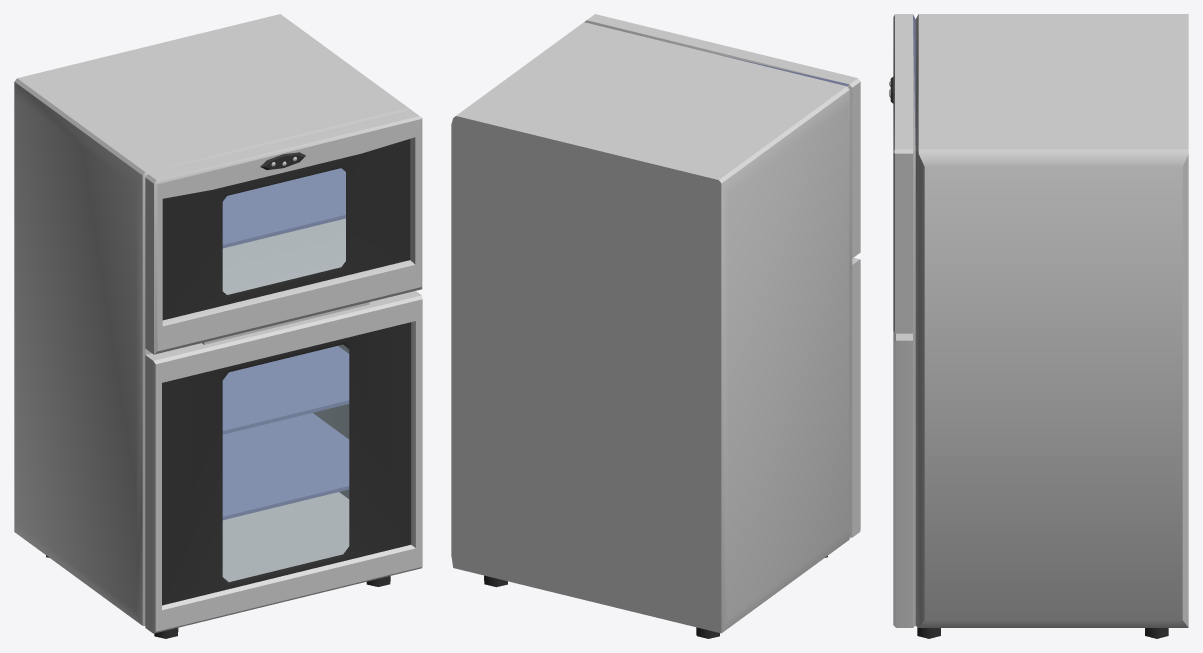
Rendered from MIDEAMXVZLP80F.FBX.
3 renders of one model, left to right at view 1: azimuth 30°, elevation 25°; view 2: azimuth 150°, elevation 25°; view 3: azimuth 270°, elevation 25°, orthographic. The views are drawn at different scales.
Parts seen in each view (by area): view 1: MIDEAMXVZLP80F; view 2: MIDEAMXVZLP80F; view 3: MIDEAMXVZLP80F.
Part boxes in pixels (left/top/right/bottom): MIDEAMXVZLP80F: left=14, top=14, right=422, bottom=638; MIDEAMXVZLP80F: left=451, top=14, right=860, bottom=638; MIDEAMXVZLP80F: left=889, top=14, right=1188, bottom=638.
Size of the model in its own units: 43 by 38.3 by 70.
